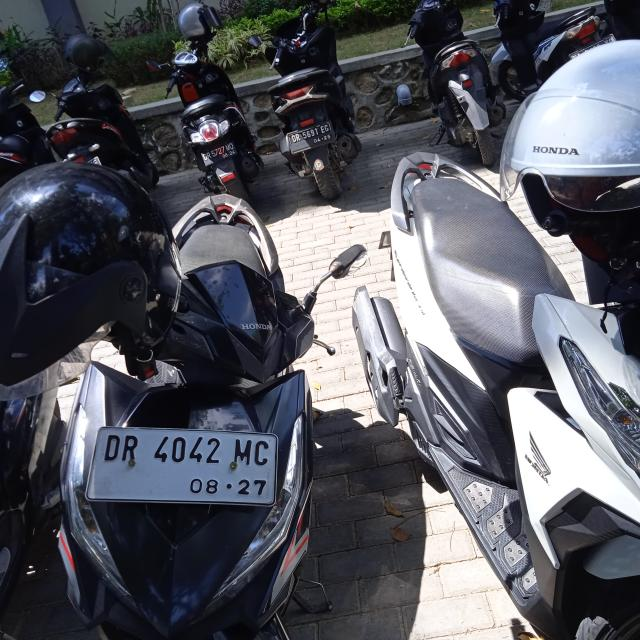plate: (90, 426, 278, 506), (287, 118, 337, 155), (200, 141, 238, 169)
